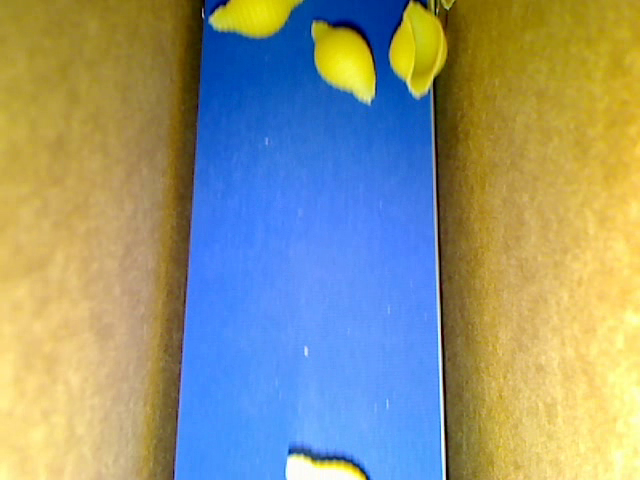penne: (441, 1, 458, 12)
shell: (309, 20, 375, 107), (389, 1, 447, 99), (209, 1, 308, 41), (285, 455, 371, 479)
